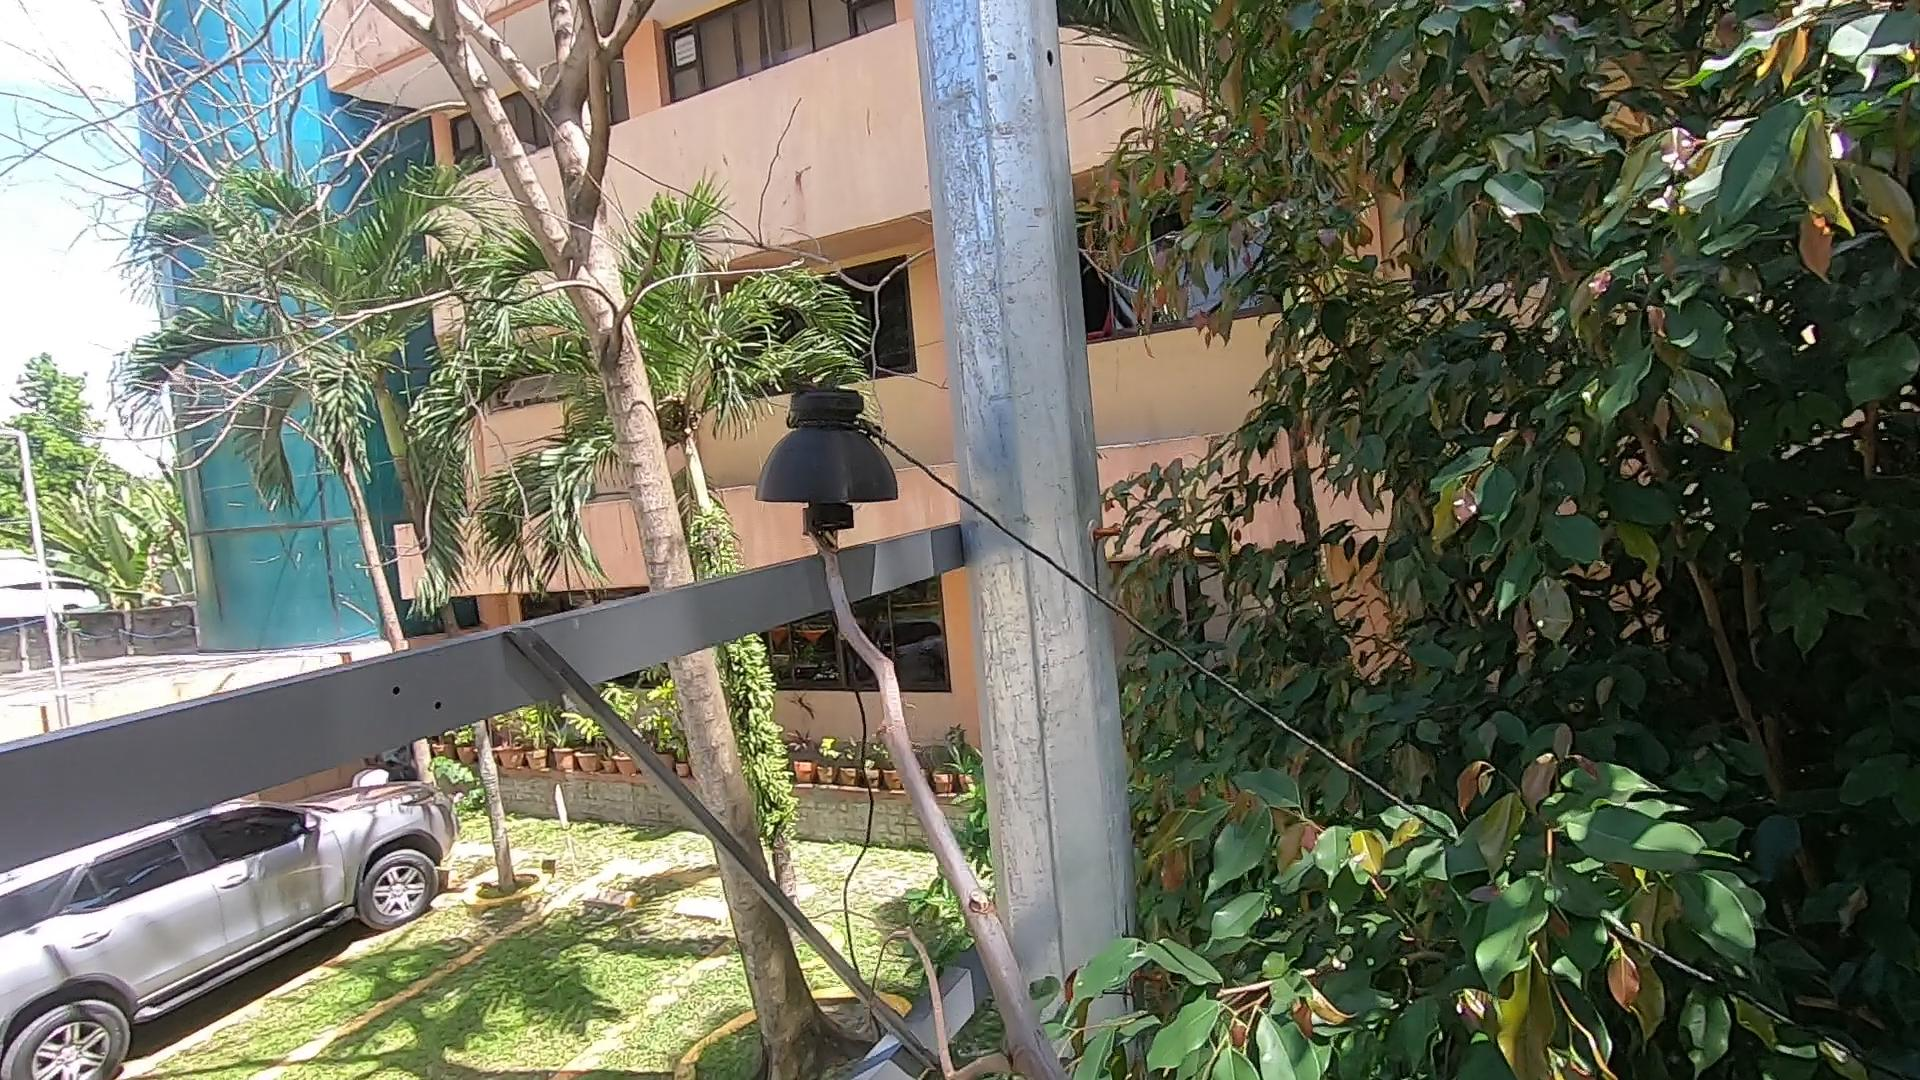tree branch: (781, 483, 1102, 1080), (996, 932, 1225, 1080)
